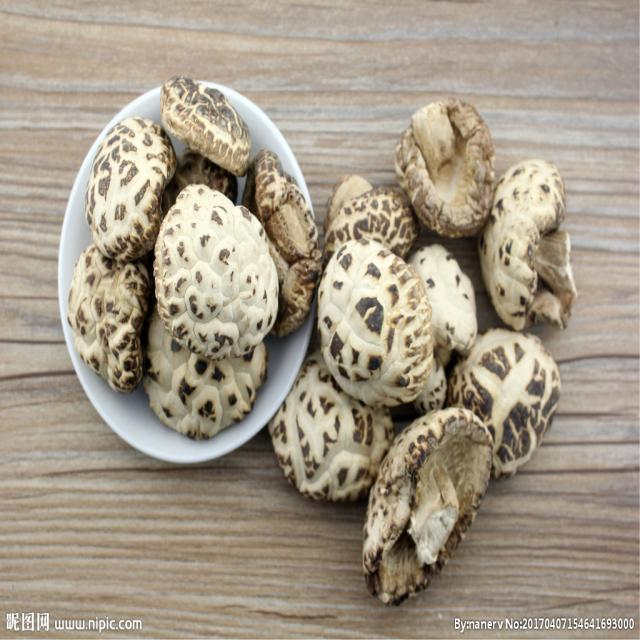Lentinus edodes: (363, 408, 495, 603), (155, 181, 280, 355), (314, 241, 433, 401), (269, 358, 393, 505), (484, 161, 578, 330), (146, 311, 266, 441), (453, 329, 563, 467), (243, 153, 321, 328), (85, 115, 176, 257), (400, 103, 494, 239), (70, 245, 147, 390), (158, 75, 253, 170), (319, 177, 416, 256)
